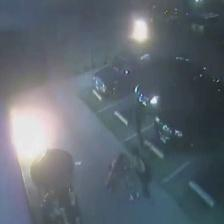fire: (5, 104, 57, 175), (128, 16, 152, 46)
